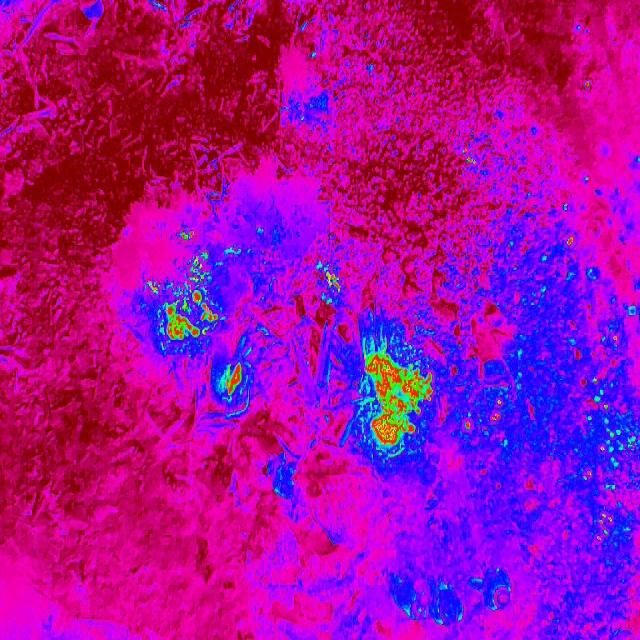fire: (573, 324, 640, 544), (363, 349, 436, 451), (148, 258, 218, 347), (462, 398, 506, 438), (220, 360, 244, 398), (322, 268, 344, 300), (562, 230, 580, 254), (177, 224, 193, 244)
